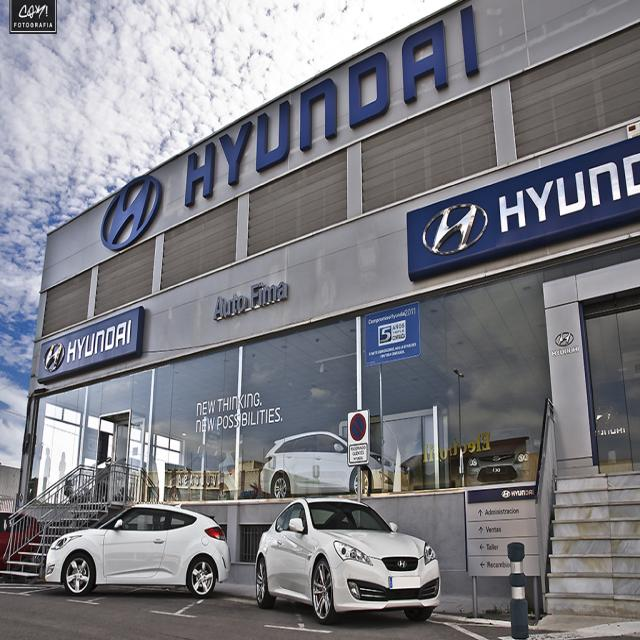car: (255, 499, 442, 621), (43, 502, 228, 594)
